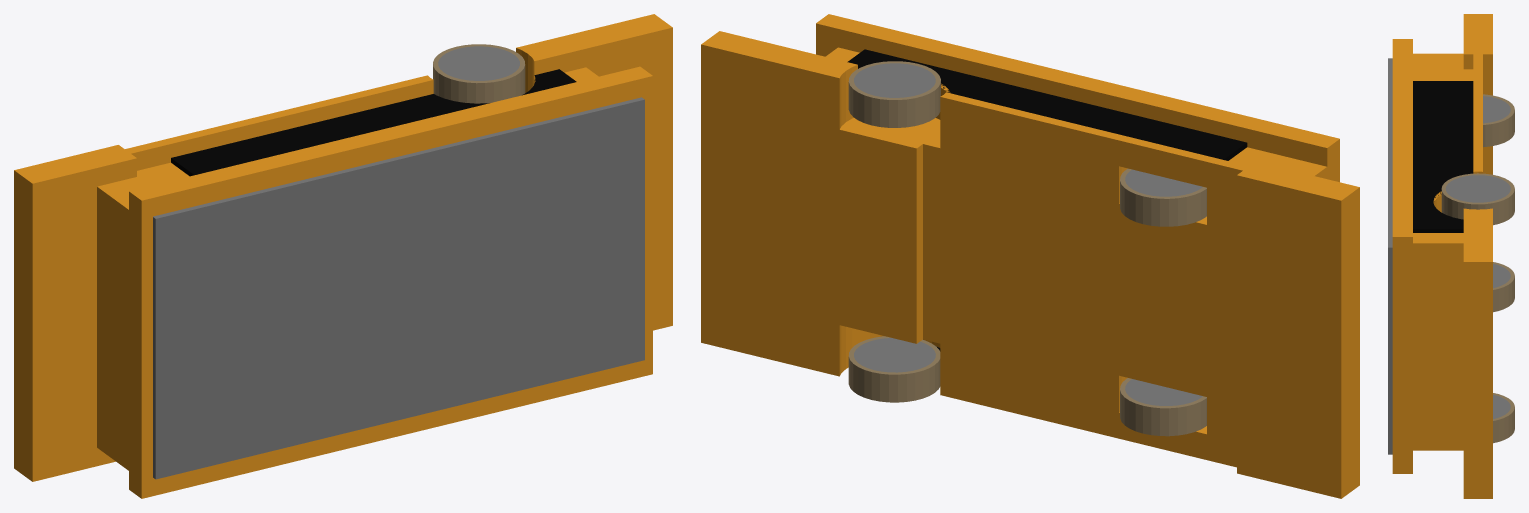
The model's file is ackermann_robot.dae.
3 views of the same model, side by side, from view 1: azimuth 30°, elevation 25°; view 2: azimuth 150°, elevation 25°; view 3: azimuth 270°, elevation 25° (orthographic). The views are drawn at different scales.
Visible parts, largest first — view 1: base; view 2: base; view 3: base.
Boxes of the visible parts, <box> form: base: <box>14,14,672,498</box>; base: <box>701,14,1359,498</box>; base: <box>1388,14,1514,498</box>.
Bounding box in the file's own units: 1.15 × 0.249 × 0.52.
